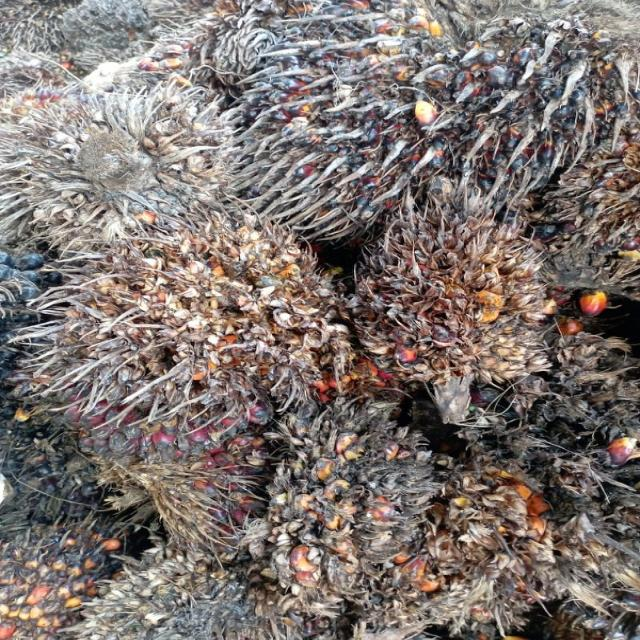fraksi 00: (265, 0, 640, 245)
